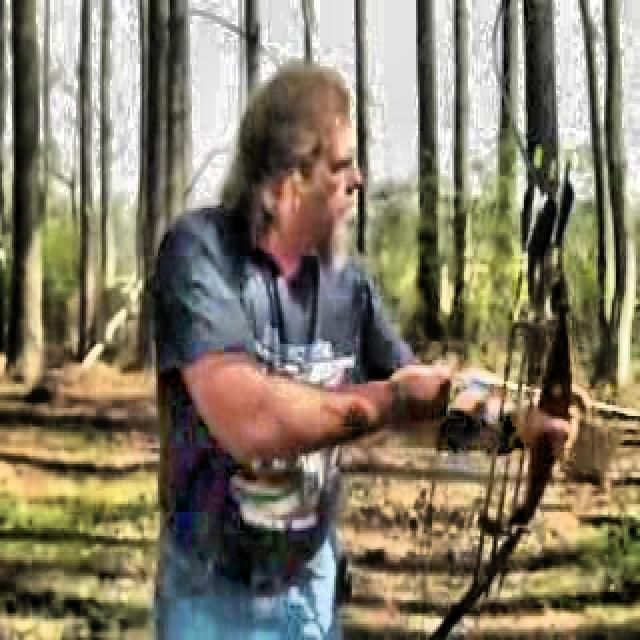I: (137, 46, 593, 640)
